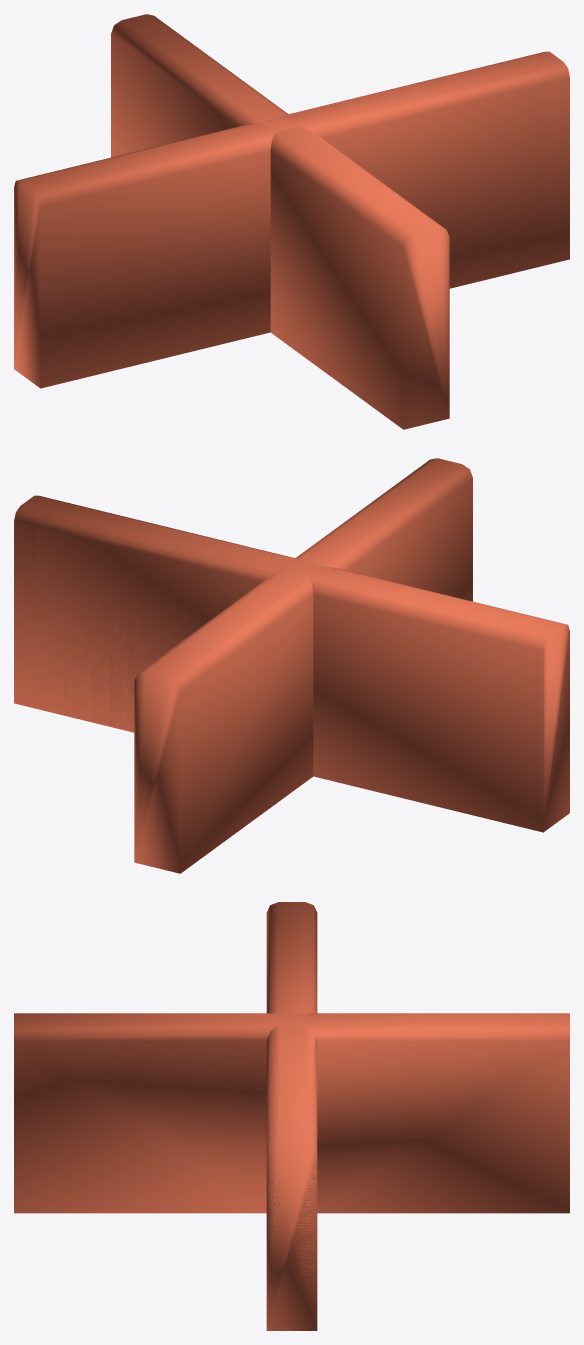
Rendered from nwfence.fbx.
3 renders of one model, top to bottom at view 1: azimuth 30°, elevation 25°; view 2: azimuth 150°, elevation 25°; view 3: azimuth 270°, elevation 25°, orthographic. The views are drawn at different scales.
Visible parts, largest first — view 1: Plane.005, Plane.006, Plane.007; view 2: Plane.005, Plane.007, Plane.006; view 3: Plane.006, Plane.007, Plane.005.
Part boxes in pixels (x1,y1,x2,y2): Plane.005: (14,57,547,388); Plane.006: (270,51,565,429); Plane.007: (111,14,569,264); Plane.005: (36,501,569,832); Plane.007: (14,495,322,873); Plane.006: (14,458,472,731); Plane.006: (14,1013,317,1330); Plane.007: (266,1013,569,1330); Plane.005: (266,902,317,1146).
Bounding box in the file's own units: 2.54 × 0.884 × 2.43.
